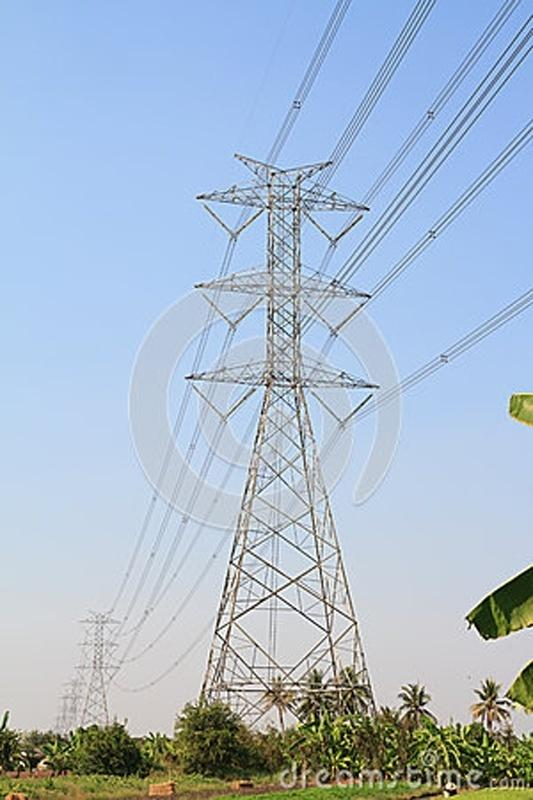power_tower: (203, 139, 387, 685)
